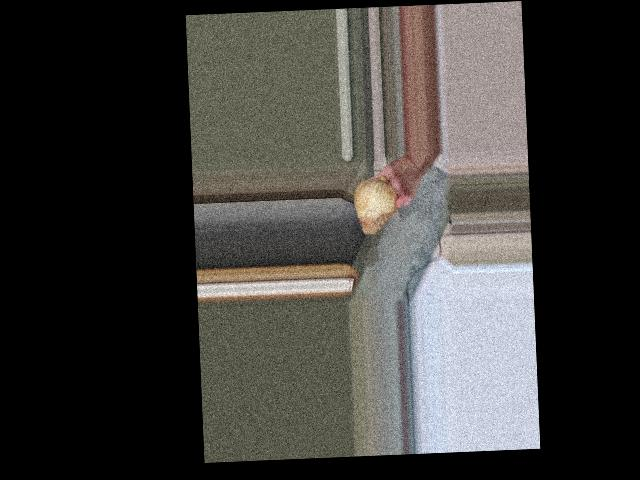onion: (356, 178, 400, 236)
